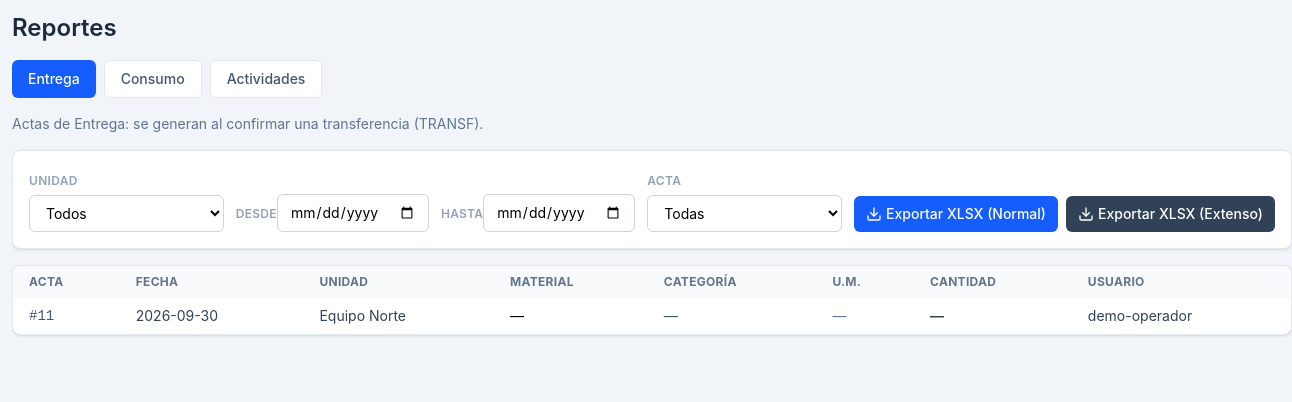
Reportes — pestaña Actividades (REQ-REP-001/012/015) › al pulsar «Actividades» monta la sección con su propia consulta (nunca listarActas con tipo inventado)
Click the tab "Actividades".
click(266, 79)  # box x1=210 y1=60 x2=322 y2=98
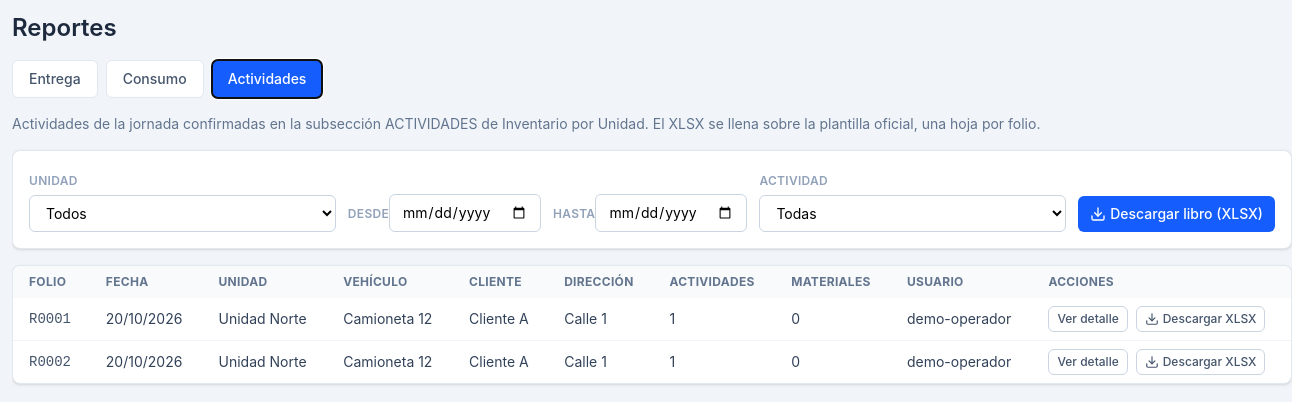
Now the text "R0001" is shown, box x1=13 y1=298 x2=90 y2=340
Now the button "Descargar libro (XLSX)" is shown, box x1=1078 y1=196 x2=1275 y2=232
